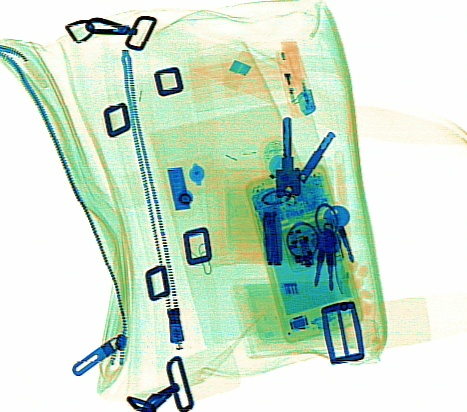lighter: (276, 40, 315, 120)
